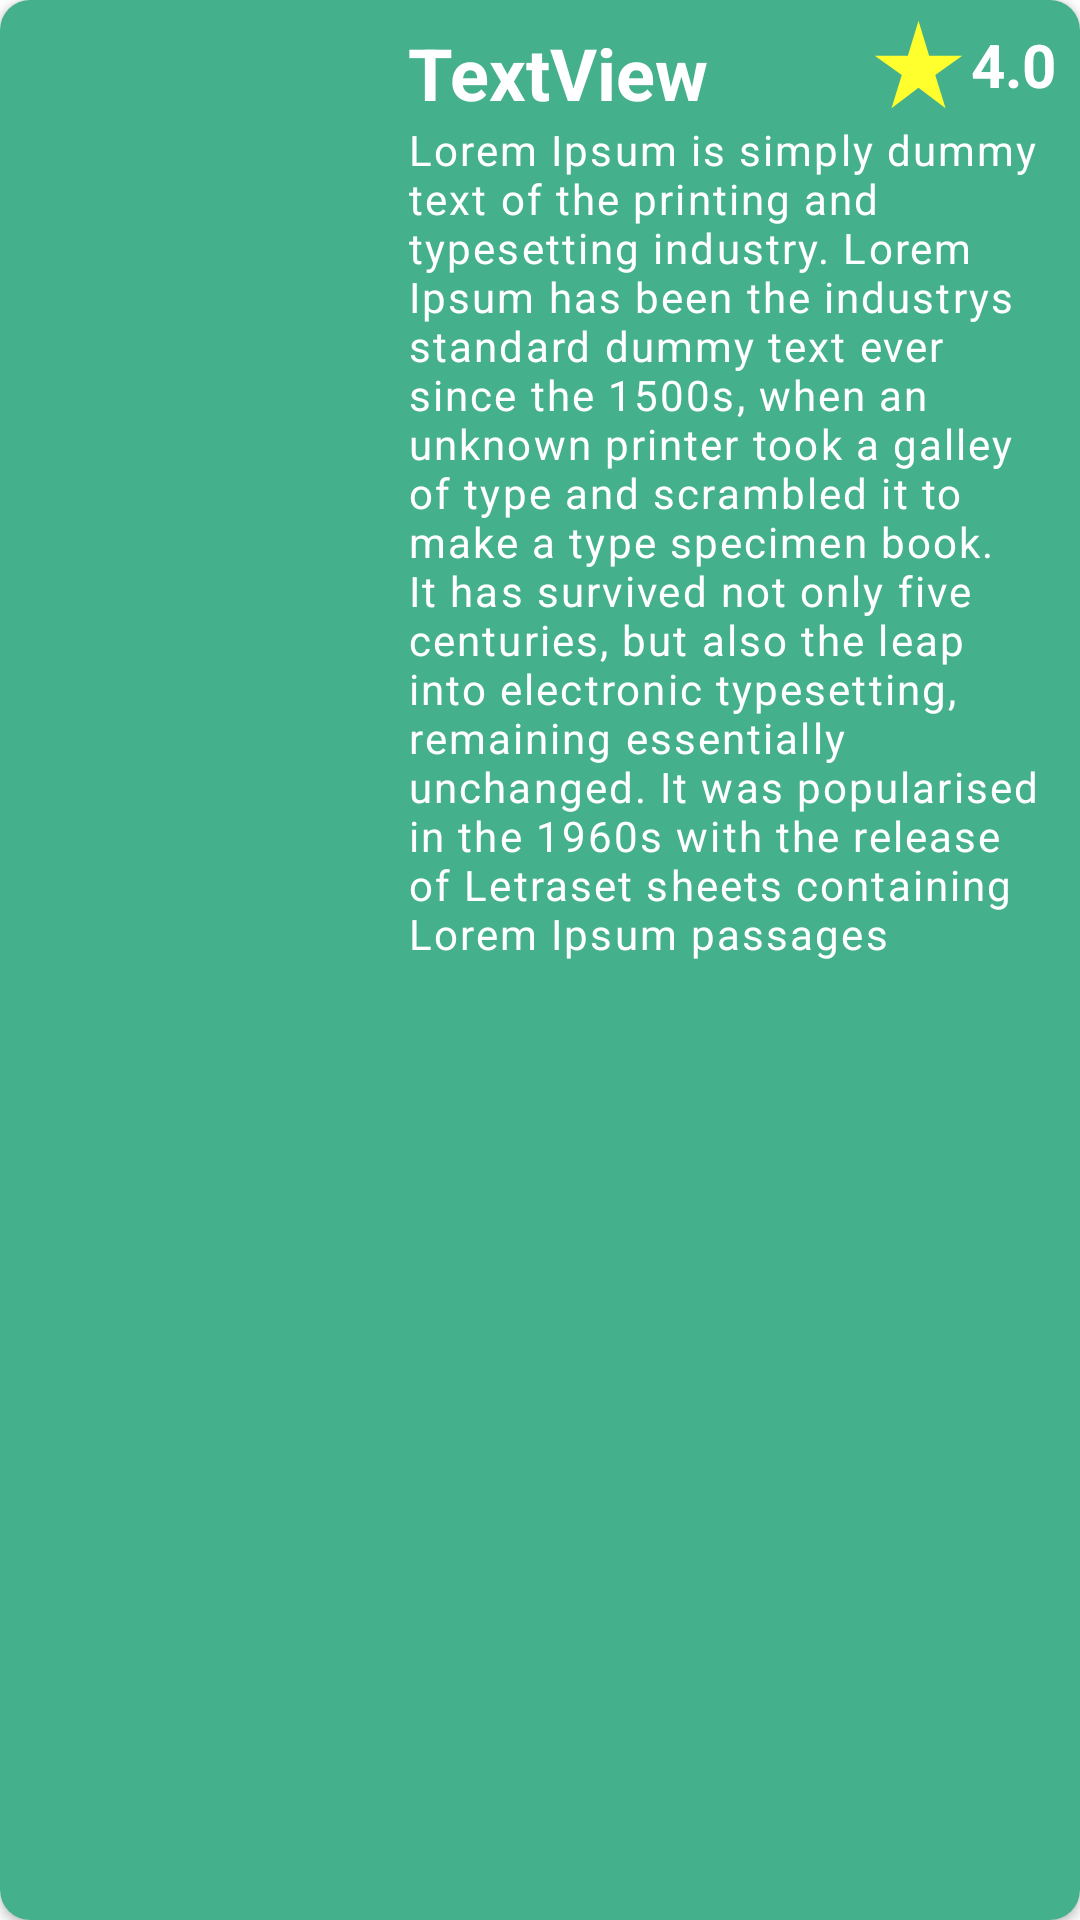

Icons on this 1080x1920 Android screen, each with its box as (x1, y1, x2, y2):
star rate: (875, 21, 962, 108)
